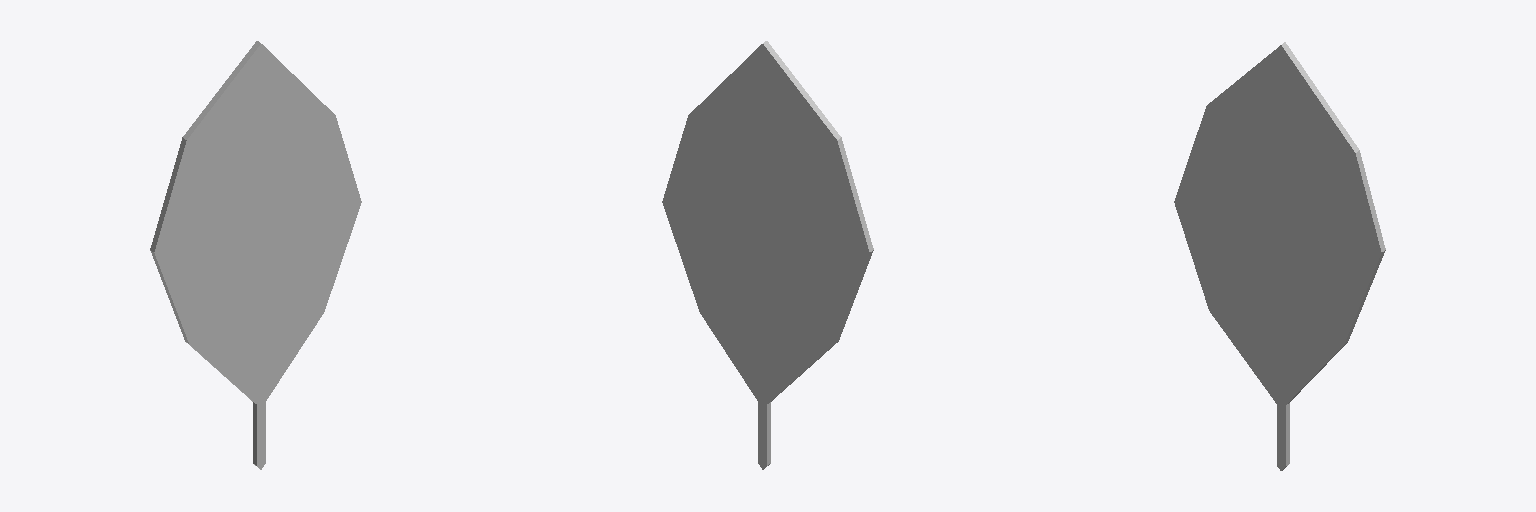
Rendered from Leaf.obj.
3 views of the same model, side by side, from view 1: azimuth 30°, elevation 25°; view 2: azimuth 150°, elevation 25°; view 3: azimuth 330°, elevation 25° (orthographic).
Bounding box in the file's own units: 1 × 1.96 × 0.035.